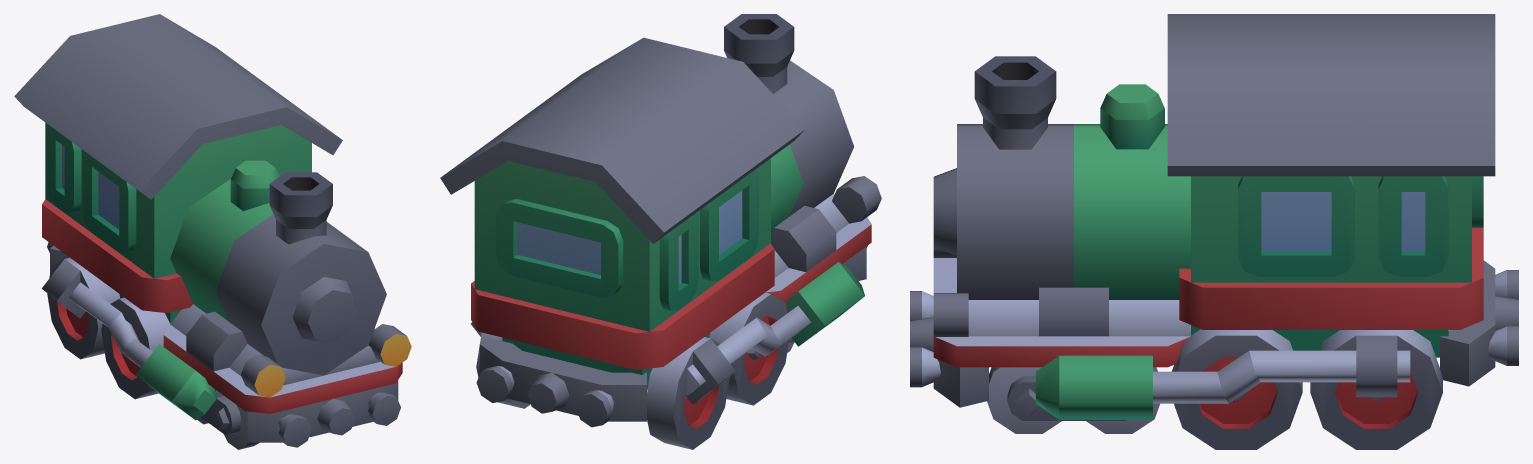
The model's file is train-locomotive-a.glb.
The picture shows the model from 3 angles, left to right: view 1: azimuth 30°, elevation 25°; view 2: azimuth 150°, elevation 25°; view 3: azimuth 270°, elevation 25°; orthographic projection. The views are drawn at different scales.
Parts seen in each view (by area): view 1: train-locomotive-a, wheel (×2), wheels-front; view 2: train-locomotive-a, wheel (×2); view 3: train-locomotive-a, wheel (×2), wheels-front.
Boxes of the visible parts, x1,y1,x2,y2 form: train-locomotive-a: (14,14,411,447); wheel (×2): (47,257,170,399); wheels-front: (197,389,259,449); train-locomotive-a: (440,14,881,427); wheel (×2): (647,292,789,449); train-locomotive-a: (910,14,1518,419); wheel (×2): (1171,329,1442,449); wheels-front: (987,367,1159,433).
Bounding box in the file's own units: 1.43 × 1.66 × 2.6.
